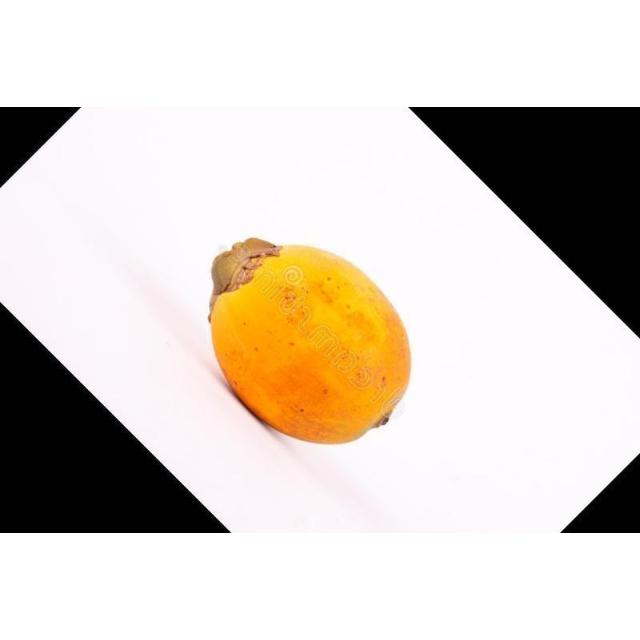good: (208, 240, 412, 447)
